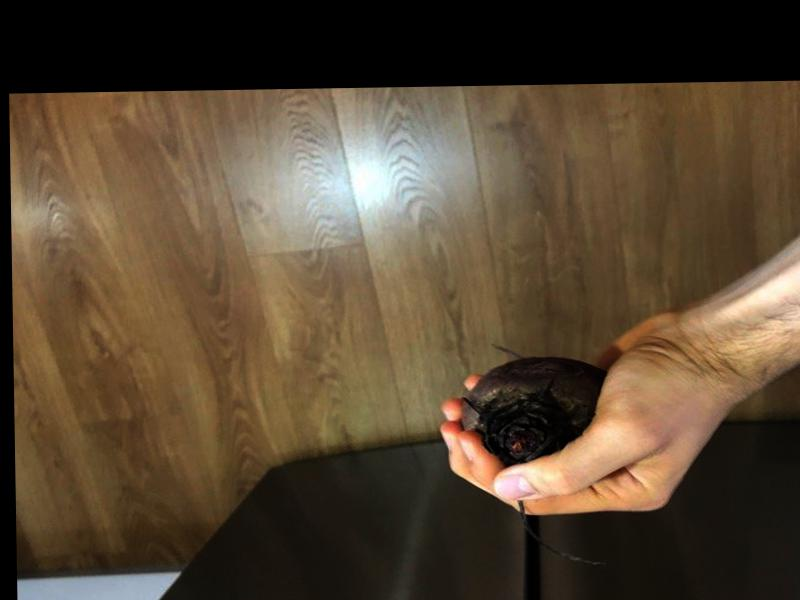Beet: (459, 356, 610, 568)
